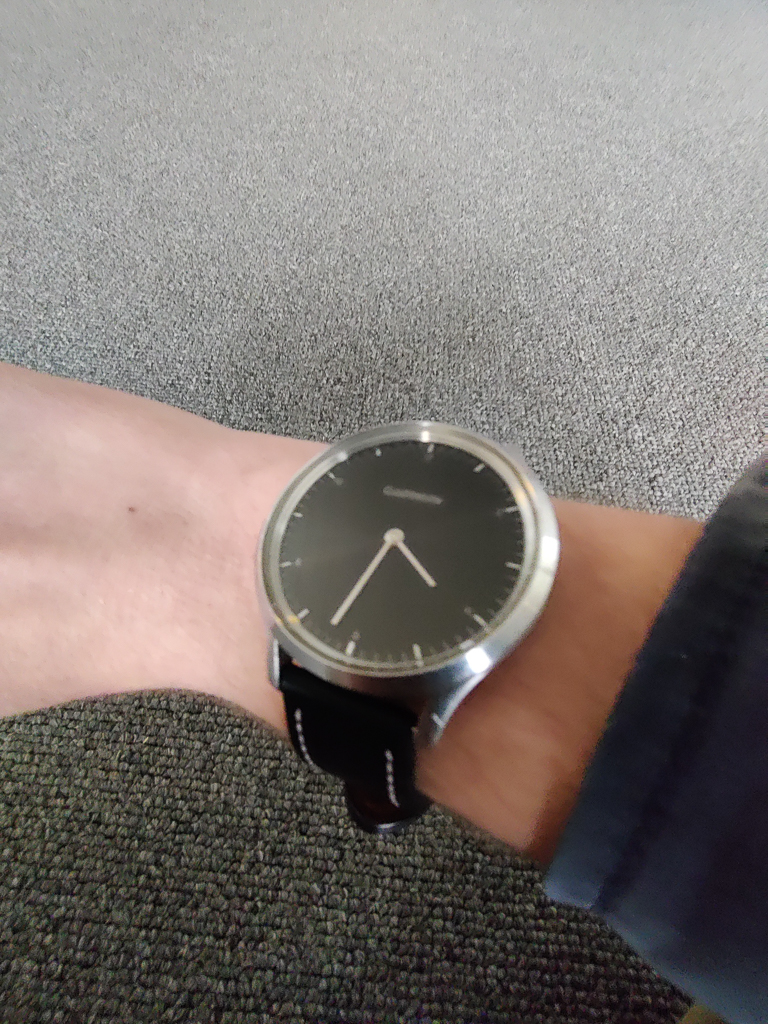Humanoid: (0, 338, 768, 1024)
